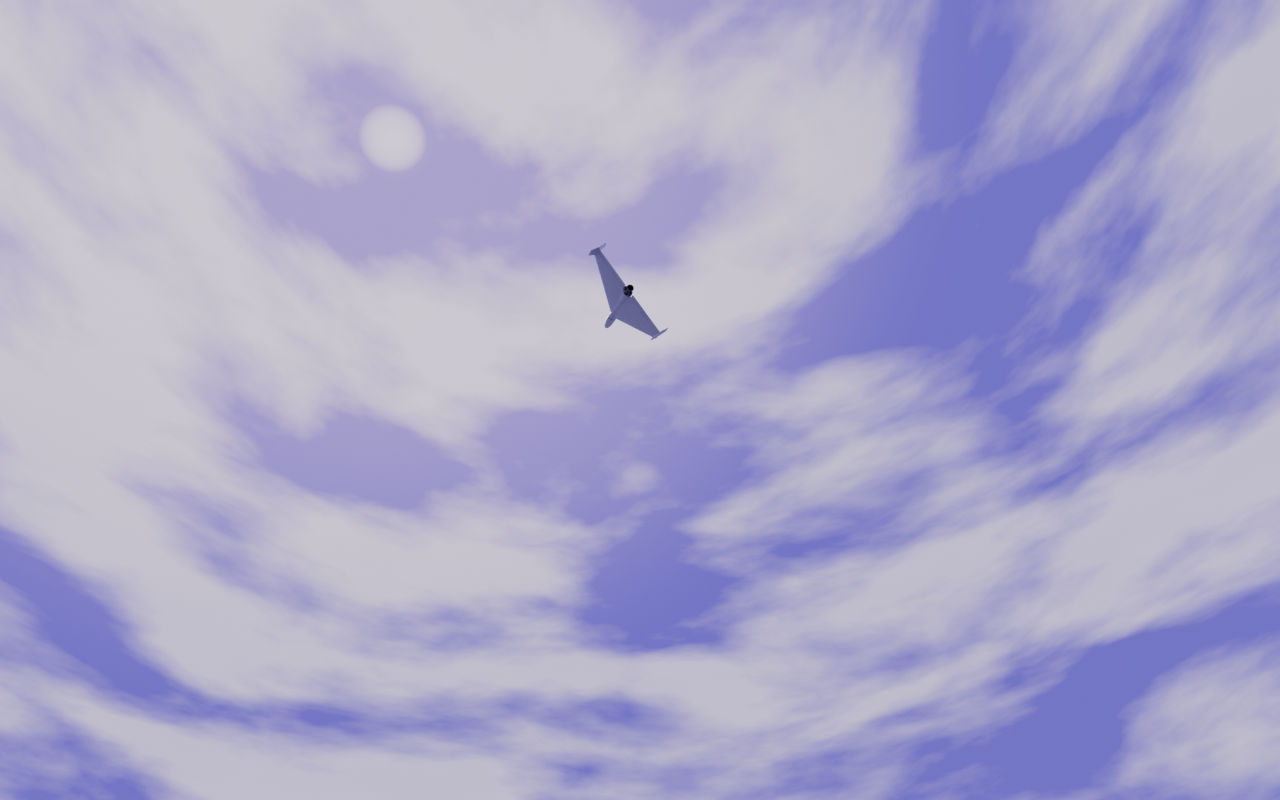shahed: (589, 243, 670, 342)
